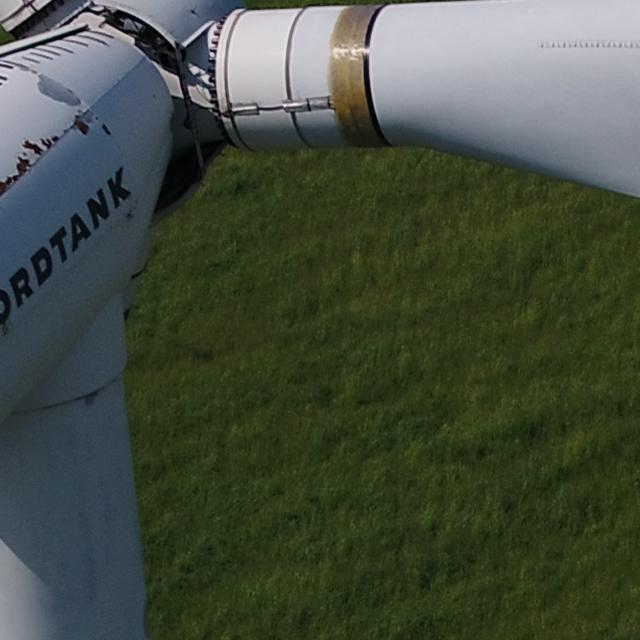damage: (538, 36, 639, 54), (1, 172, 20, 202), (18, 138, 46, 156), (14, 157, 38, 178), (39, 129, 61, 149), (68, 115, 90, 134), (100, 121, 112, 138)
